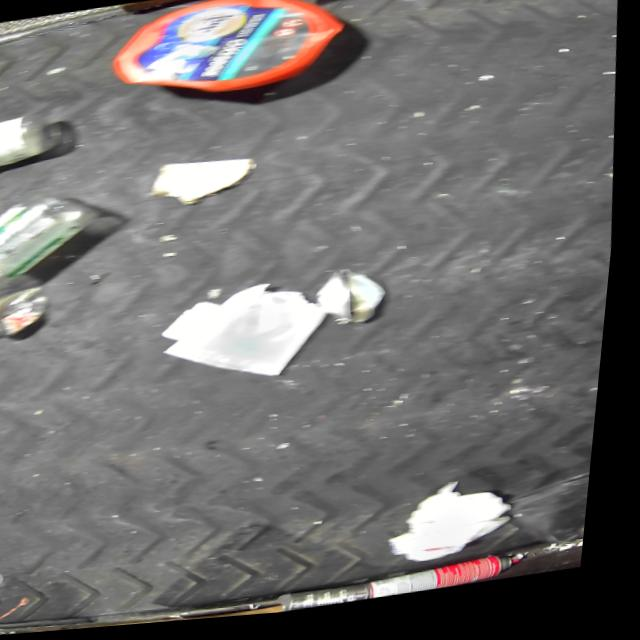can: (380, 560, 533, 606), (319, 267, 396, 336), (291, 586, 383, 617), (515, 0, 574, 7)
non_white_jug: (105, 0, 355, 112)
